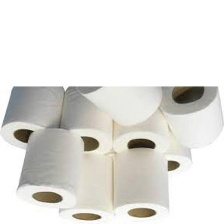tissue: (14, 126, 88, 212), (110, 145, 172, 224), (155, 86, 224, 150), (55, 149, 114, 223), (0, 86, 65, 152), (57, 86, 113, 157), (73, 86, 163, 129), (110, 106, 167, 159), (149, 142, 194, 178)
